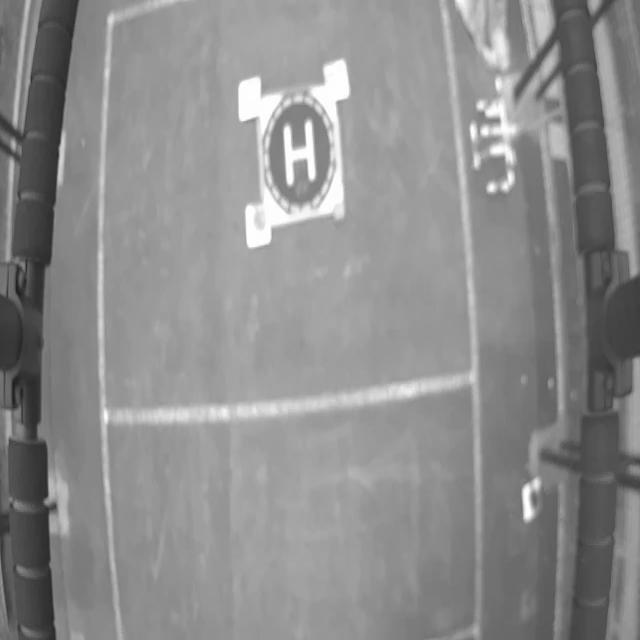Helipad: (282, 118, 317, 190)
